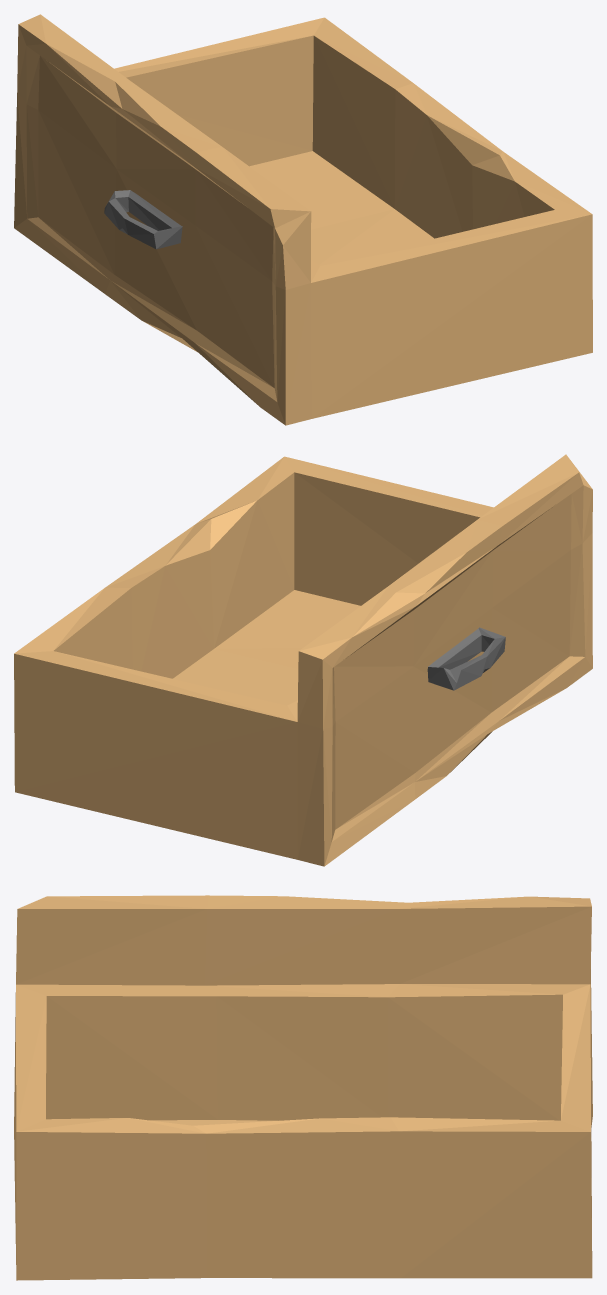
File: SFI_Nightstand_Prop_004.fbx
3 views of the same model, one above another, from view 1: azimuth 30°, elevation 25°; view 2: azimuth 150°, elevation 25°; view 3: azimuth 270°, elevation 25° (orthographic). The views are drawn at different scales.
Parts seen in each view (by area): view 1: SFI_Nightstand_Prop_004; view 2: SFI_Nightstand_Prop_004; view 3: SFI_Nightstand_Prop_004.
Boxes of the visible parts, box(x1,y1,x2,y2) form: SFI_Nightstand_Prop_004: box(14, 14, 592, 425); SFI_Nightstand_Prop_004: box(14, 454, 592, 866); SFI_Nightstand_Prop_004: box(14, 895, 592, 1280).
Size of the model in its own units: 34.73 by 20.84 by 48.46.
